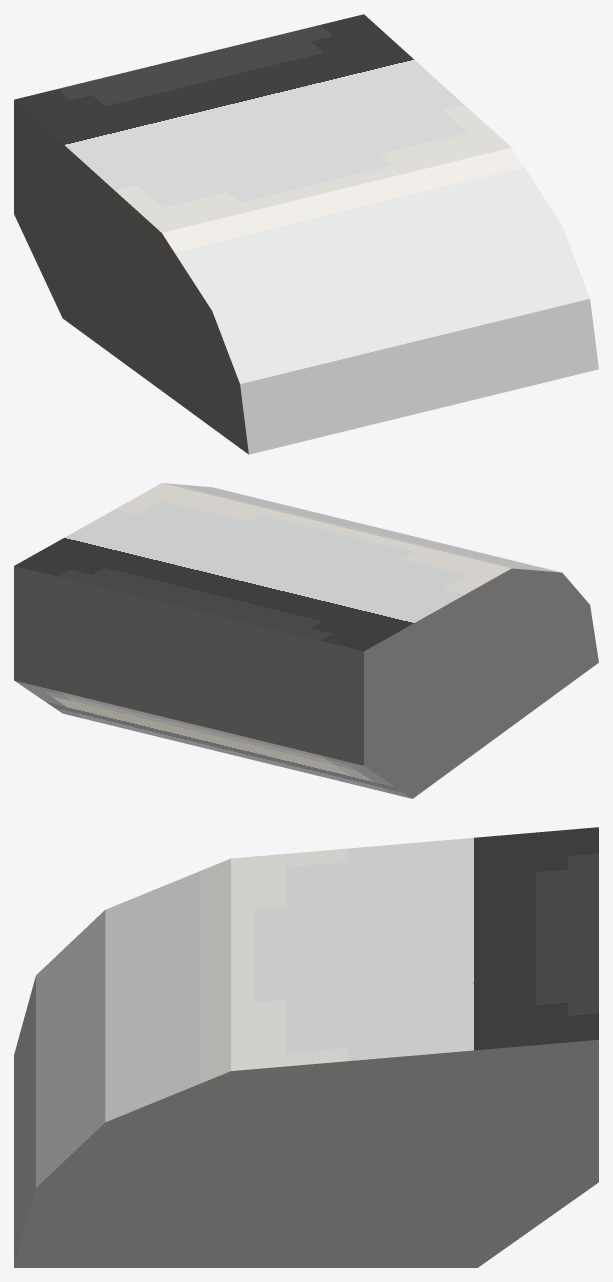
Rendered from crh2a_carport_side.obj.
The picture shows the model from 3 angles, top to bottom: view 1: azimuth 30°, elevation 25°; view 2: azimuth 150°, elevation 25°; view 3: azimuth 270°, elevation 25°; orthographic projection. The views are drawn at different scales.
Visible parts, largest first — view 1: carport_side; view 2: carport_side; view 3: carport_side.
Boxes of the visible parts, x1=… form: carport_side: x1=14, y1=14, x2=598, y2=454; carport_side: x1=14, y1=483, x2=598, y2=798; carport_side: x1=14, y1=827, x2=598, y2=1267.
Size of the model in its own units: 1 by 0.5 by 1.16.
